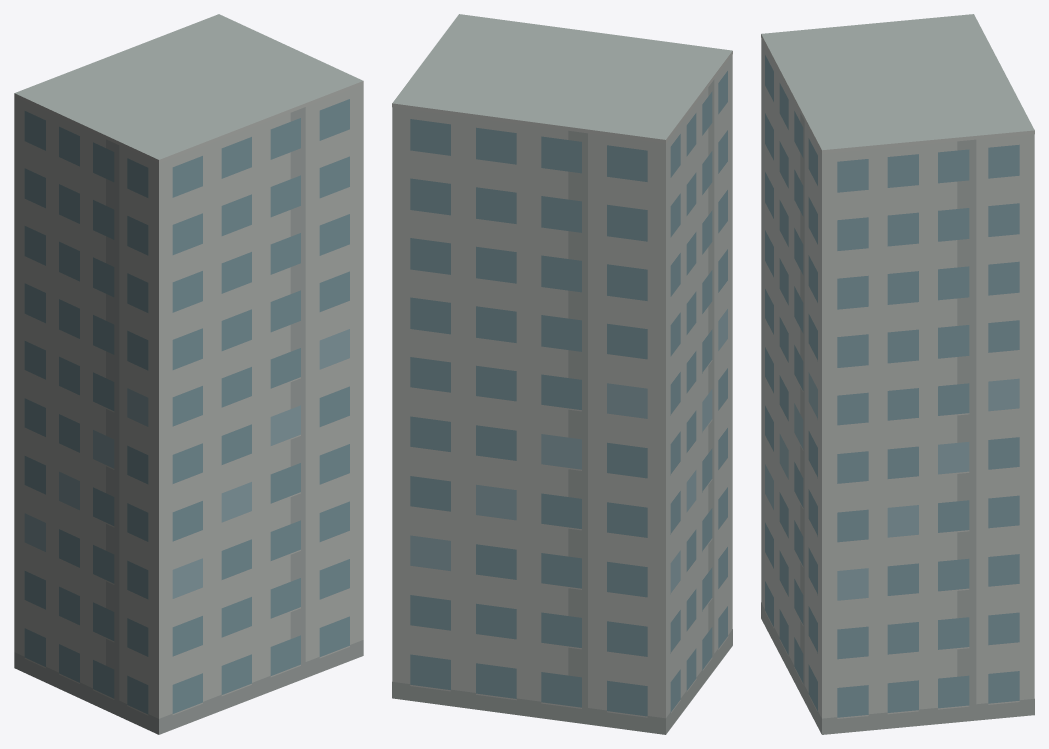
File: residential-04d3a0d5-5381-45a2-8c94-f725b71b6fca.glb
3 renders of one model, left to right at view 1: azimuth 30°, elevation 25°; view 2: azimuth 150°, elevation 25°; view 3: azimuth 270°, elevation 25°, orthographic. The views are drawn at different scales.
Parts seen in each view (by area): view 1: residential-04d3a0d5-5381-45a2-8c94-f725b71b6fca.tmp; view 2: residential-04d3a0d5-5381-45a2-8c94-f725b71b6fca.tmp; view 3: residential-04d3a0d5-5381-45a2-8c94-f725b71b6fca.tmp.
Boxes of the visible parts, x1,y1,x2,y2 form: residential-04d3a0d5-5381-45a2-8c94-f725b71b6fca.tmp: (14, 14, 363, 734); residential-04d3a0d5-5381-45a2-8c94-f725b71b6fca.tmp: (392, 14, 732, 734); residential-04d3a0d5-5381-45a2-8c94-f725b71b6fca.tmp: (761, 14, 1034, 734).
Bounding box in the file's own units: 19 × 38 × 16.13.
